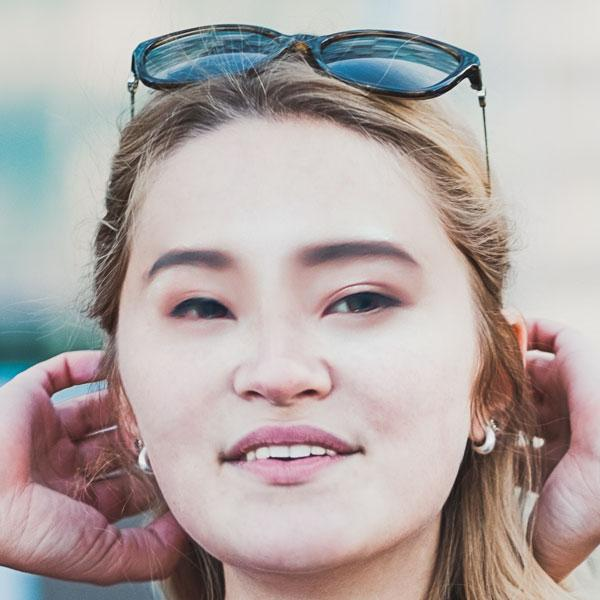Eyes: (305, 274, 405, 328), (156, 280, 243, 331)
